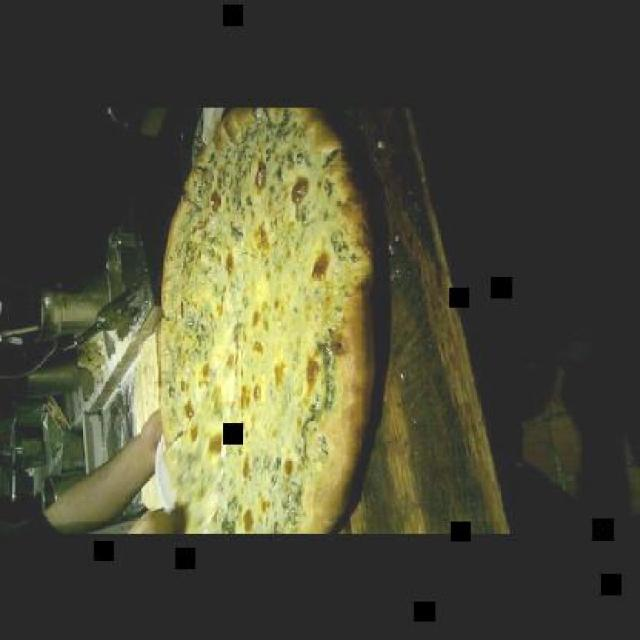unauthorized: (152, 104, 378, 534)
